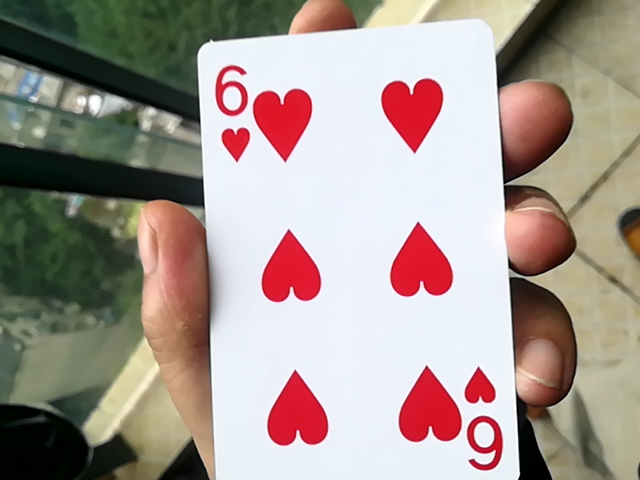hx 6: (189, 18, 527, 480)
